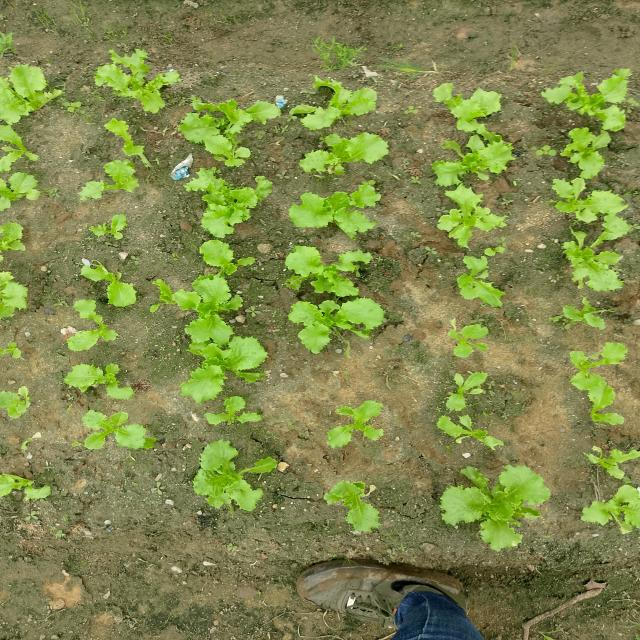Lettuce: (422, 449, 550, 547), (286, 178, 396, 242), (534, 65, 637, 129), (188, 331, 282, 401), (149, 271, 243, 335), (280, 240, 374, 300), (296, 294, 384, 354), (192, 90, 280, 150), (302, 113, 390, 173), (540, 132, 626, 187), (296, 69, 383, 123), (564, 336, 630, 407), (438, 185, 508, 250), (101, 44, 165, 115), (320, 471, 387, 538), (78, 405, 154, 461), (323, 392, 390, 455), (427, 83, 506, 136), (2, 61, 63, 127), (183, 177, 257, 230), (82, 148, 147, 208), (60, 358, 144, 404), (78, 255, 141, 312), (443, 140, 518, 187), (569, 438, 640, 484), (582, 482, 640, 538), (450, 255, 504, 314), (534, 194, 624, 229), (544, 294, 621, 330), (432, 323, 506, 360), (0, 468, 57, 516), (438, 369, 493, 415), (194, 437, 245, 484), (75, 204, 129, 247), (201, 233, 249, 277), (563, 255, 640, 282), (0, 260, 31, 326), (0, 211, 32, 261), (0, 384, 32, 422)
